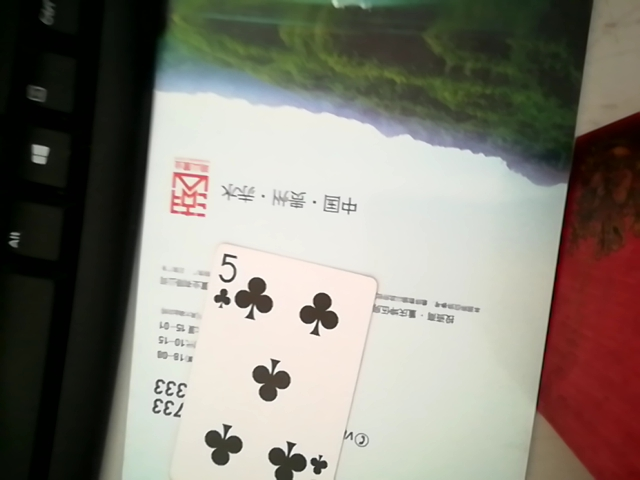mh 5: (162, 221, 356, 462)
